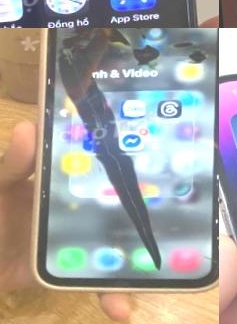physical_damage: (8, 28, 219, 291)
screen_defect: (24, 28, 219, 293)
